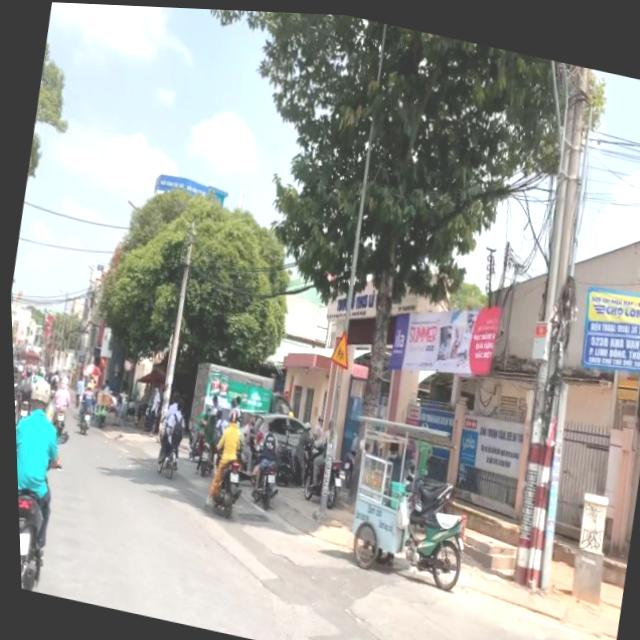Tre em: (324, 322, 352, 368)
